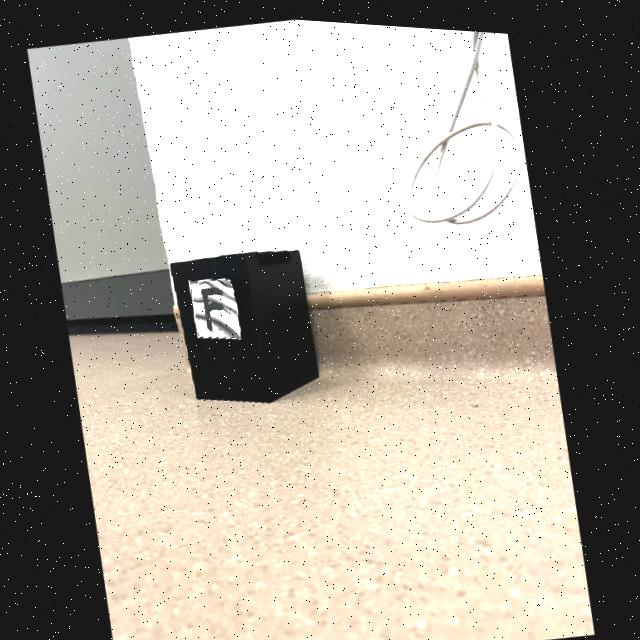F: (204, 284, 227, 327)
